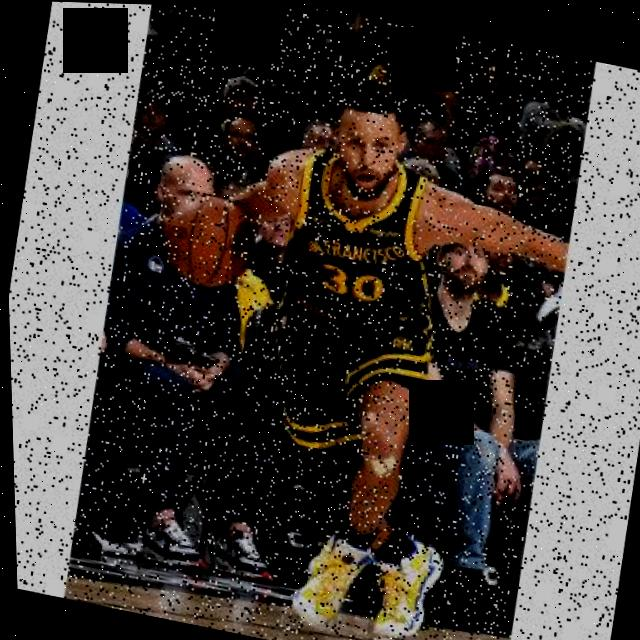shoe: (283, 521, 372, 634), (360, 527, 444, 640), (130, 507, 205, 573), (203, 519, 277, 581)
